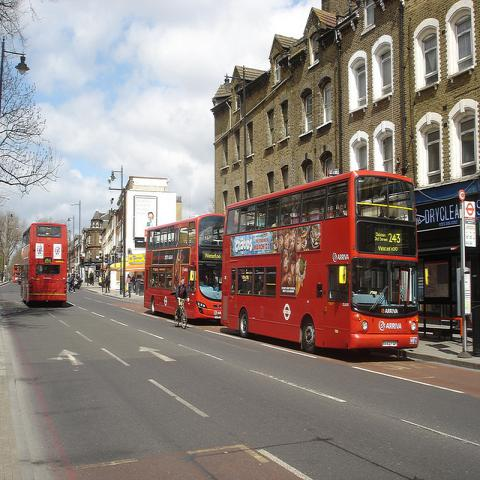bus: (220, 170, 419, 358), (143, 214, 228, 322), (20, 224, 70, 311)
